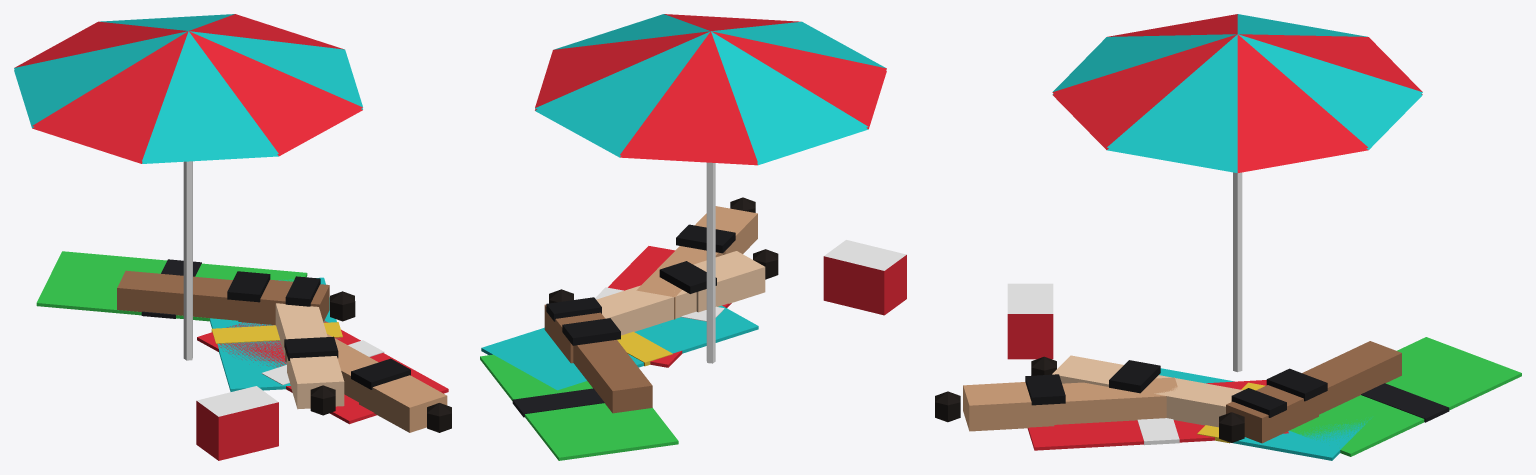
The model's file is nudista_grupo_1.obj.
The picture shows the model from 3 angles, left to right: view 1: azimuth 30°, elevation 25°; view 2: azimuth 150°, elevation 25°; view 3: azimuth 270°, elevation 25°; orthographic projection. The views are drawn at different scales.
Visible parts, largest first — view 1: nudista_grupo_1; view 2: nudista_grupo_1; view 3: nudista_grupo_1.
Boxes of the visible parts, x1=… form: nudista_grupo_1: x1=14, y1=14, x2=451, y2=460; nudista_grupo_1: x1=480, y1=14, x2=906, y2=460; nudista_grupo_1: x1=935, y1=14, x2=1521, y2=460.
Size of the model in its own units: 2.81 by 2.6 by 4.12.
